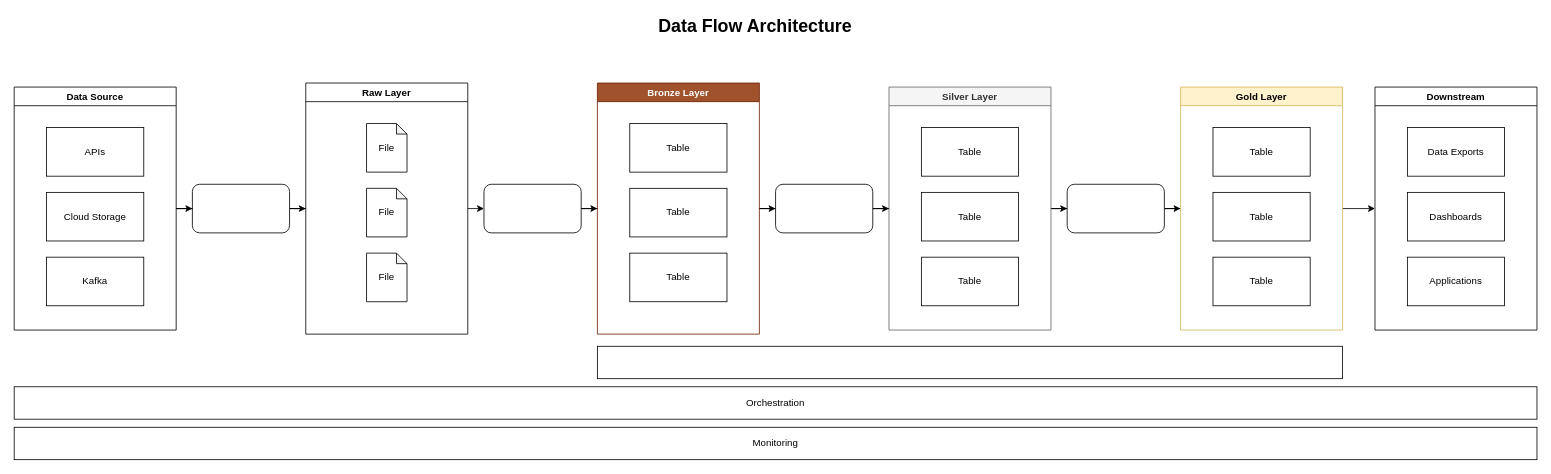
Some shapes in this 1551 by 474 pixel diagram are drawn without their labels. Here are the shapes that lost their labels. From the top down, the centre of each, then its label:
At [241,208]: "Extract".
At [532,208]: "Load".
At [824,208]: "Transform (Flatten, Clean, Join)".
At [1115,208]: "Transform (Aggregate)".
At [970,362]: "Data Cataloguing & Lineage".
